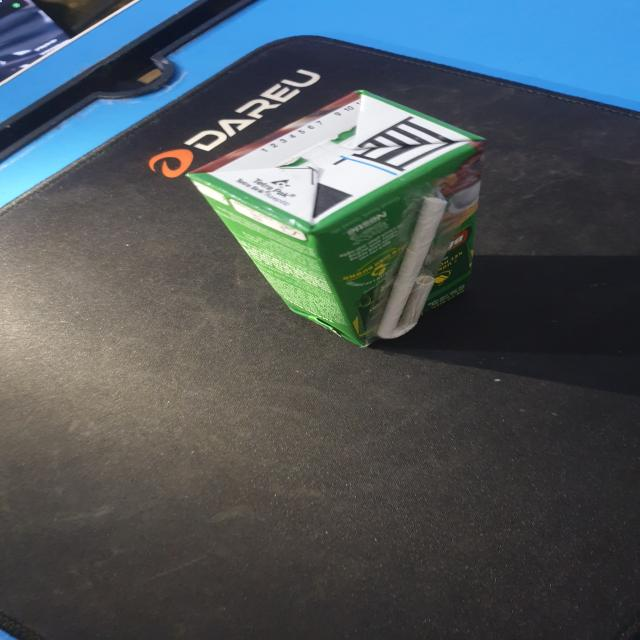Milo: (184, 87, 493, 357)
